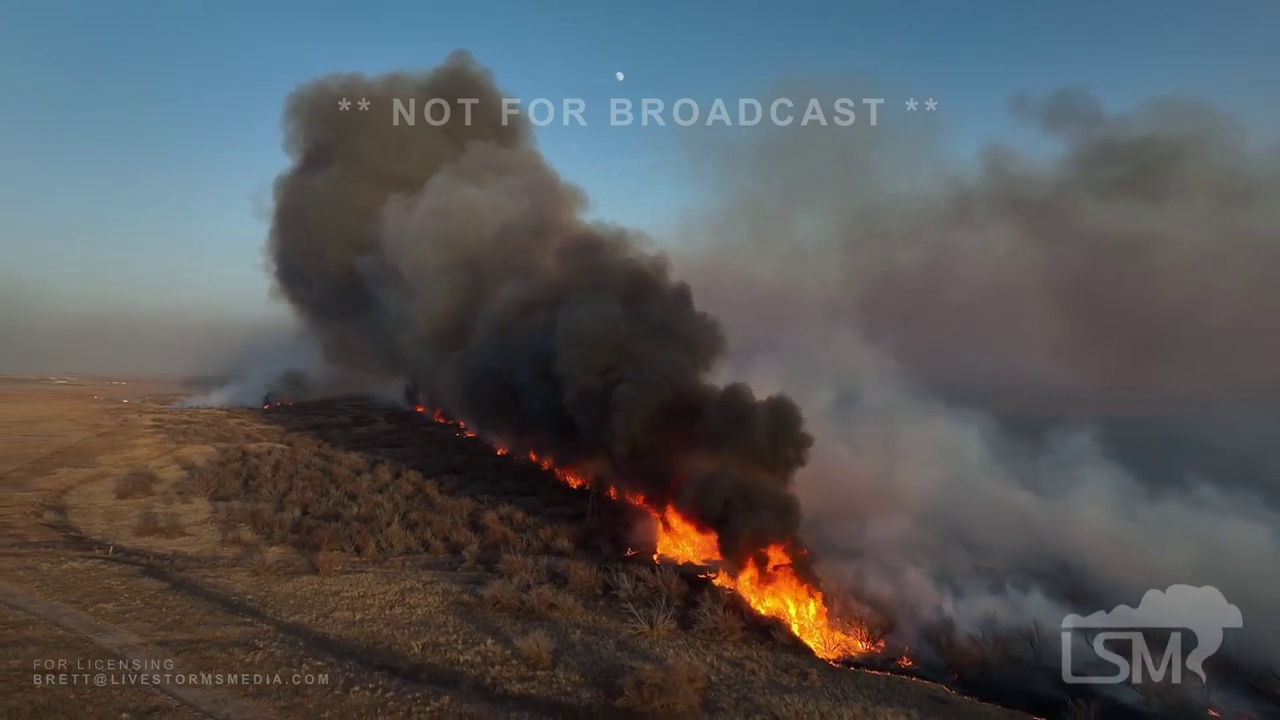forest_fire: (607, 487, 881, 661), (527, 451, 589, 488), (415, 403, 472, 436), (495, 445, 509, 454)
